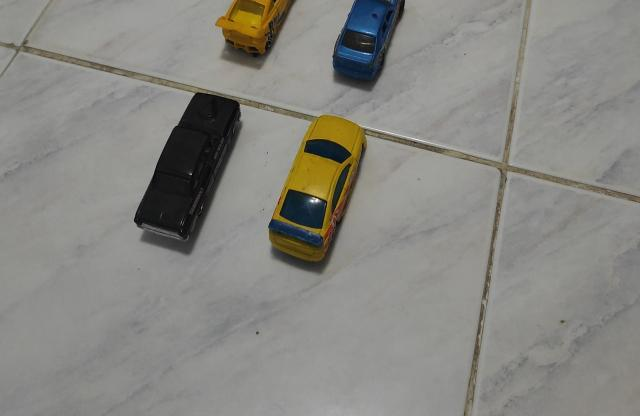01_FORD: (133, 94, 243, 244)
02_OZSOME: (266, 115, 366, 264)
04_MERZEDES: (332, 0, 406, 83)
07_RHLTURBO: (214, 0, 295, 57)
